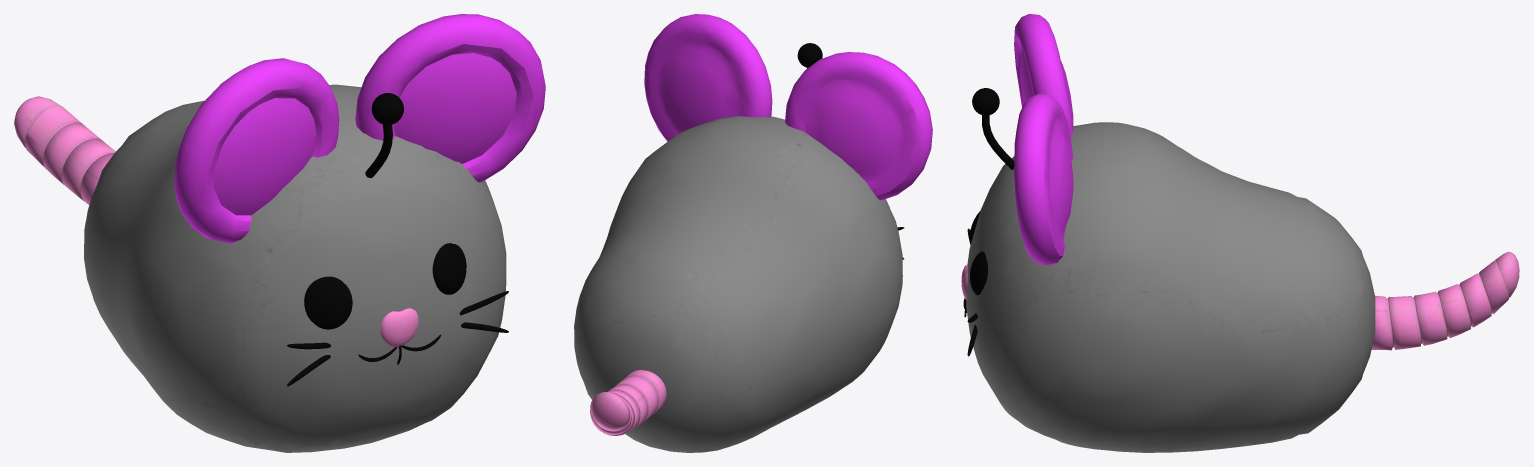
The model's file is RatBotWalk.fbx.
The picture shows the model from 3 angles, left to right: view 1: azimuth 30°, elevation 25°; view 2: azimuth 150°, elevation 25°; view 3: azimuth 270°, elevation 25°; orthographic projection. The views are drawn at different scales.
Parts seen in each view (by area): view 1: Cuerpo, Antena; view 2: Cuerpo, Antena; view 3: Cuerpo, Antena.
Part boxes in pixels (box(x1,y1,x2,y2)): Cuerpo: box(14, 14, 545, 452); Antena: box(365, 93, 403, 178); Cuerpo: box(574, 14, 932, 452); Antena: box(797, 43, 822, 68); Cuerpo: box(961, 14, 1519, 452); Antena: box(972, 88, 1014, 169).
Bounding box in the file's own units: 75.73 × 85.91 × 117.
Materials: 1 (1 with a texture image).
